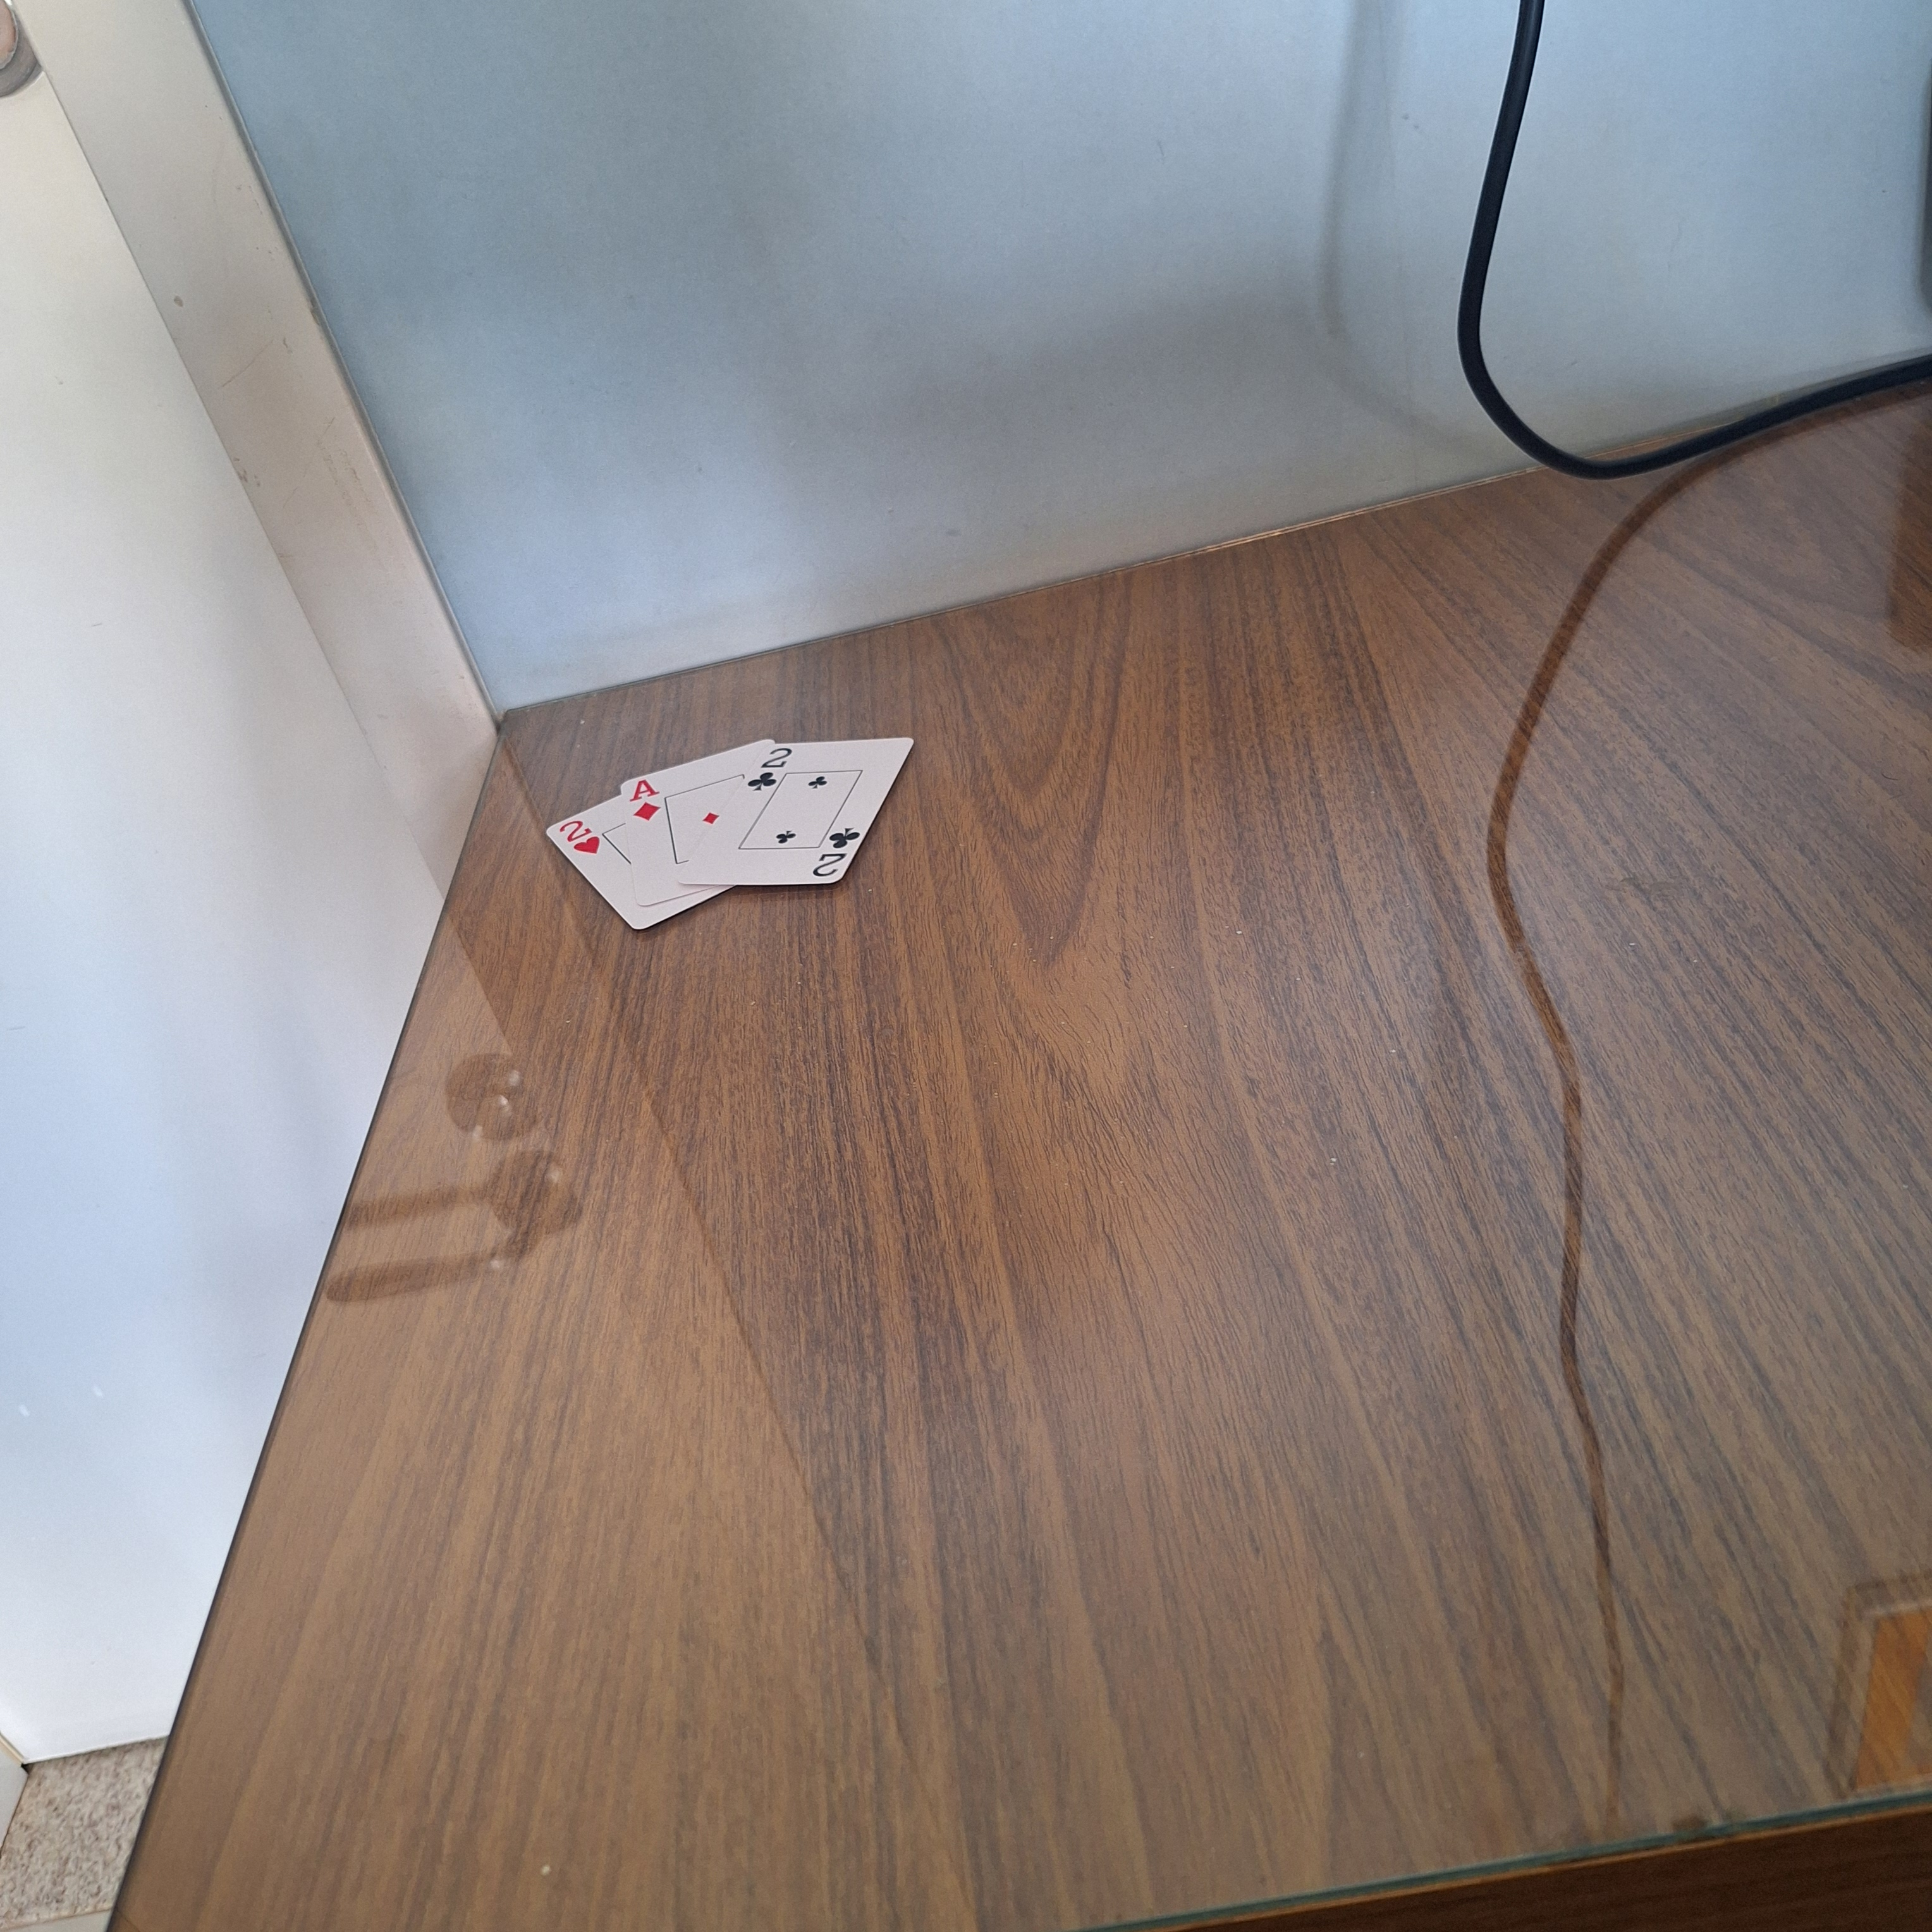2C: (550, 812, 605, 862)
2P: (805, 819, 865, 885), (741, 743, 800, 800)
AO: (621, 773, 669, 830)
